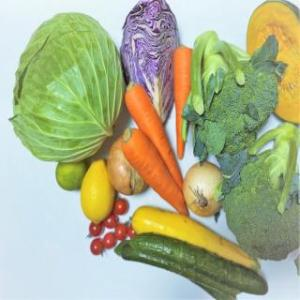cabbage: (11, 10, 125, 160)
carrot: (126, 83, 193, 189), (121, 127, 195, 217), (174, 46, 192, 160)
onion: (182, 162, 228, 216), (108, 133, 148, 195)
